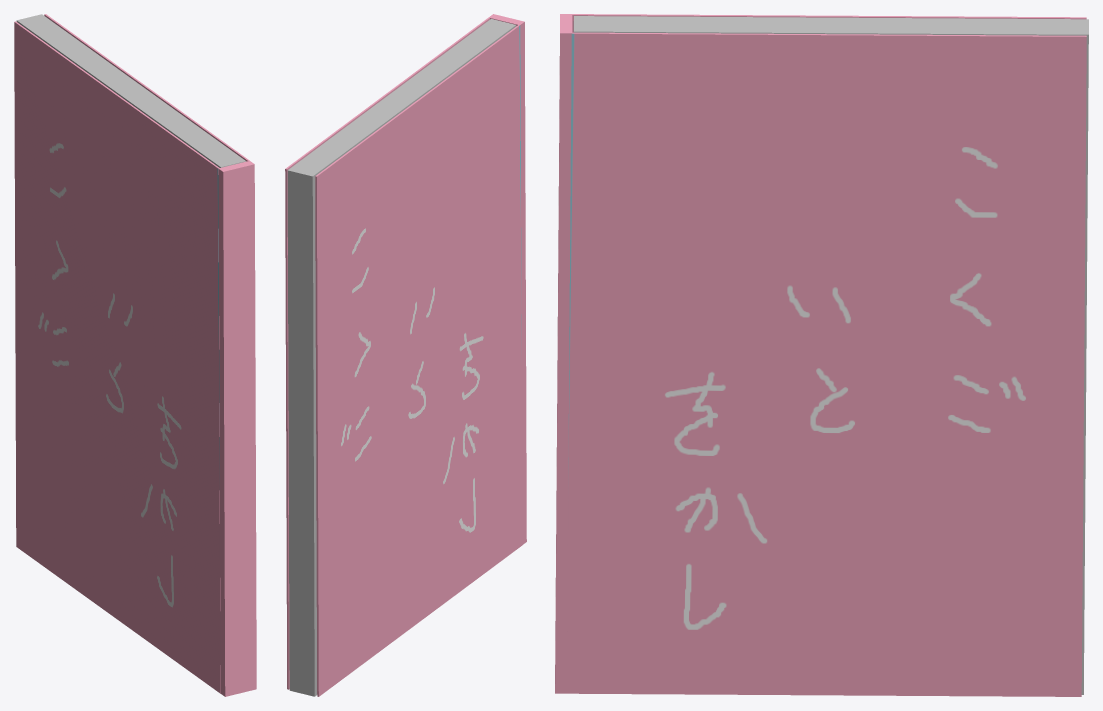
The model's file is textbook01.fbx.
3 views of the same model, side by side, from view 1: azimuth 30°, elevation 25°; view 2: azimuth 150°, elevation 25°; view 3: azimuth 270°, elevation 25° (orthographic). The views are drawn at different scales.
Parts seen in each view (by area): view 1: Cube.004, Cube.003; view 2: Cube.004, Cube.003; view 3: Cube.004, Cube.003.
Boxes of the visible parts, x1,y1,x2,y2 form: Cube.004: (14,14,249,693); Cube.003: (218,161,256,696); Cube.004: (285,17,522,696); Cube.003: (489,14,526,544); Cube.004: (566,14,1088,696); Cube.003: (555,14,572,693).
Size of the model in its own units: 18.88 by 298 by 218.
